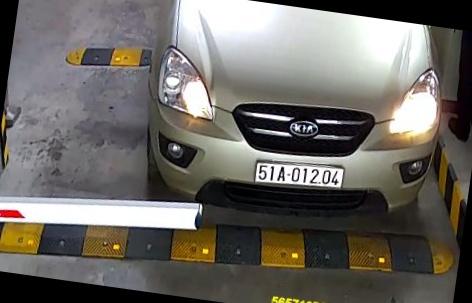plate: (247, 153, 351, 198)
